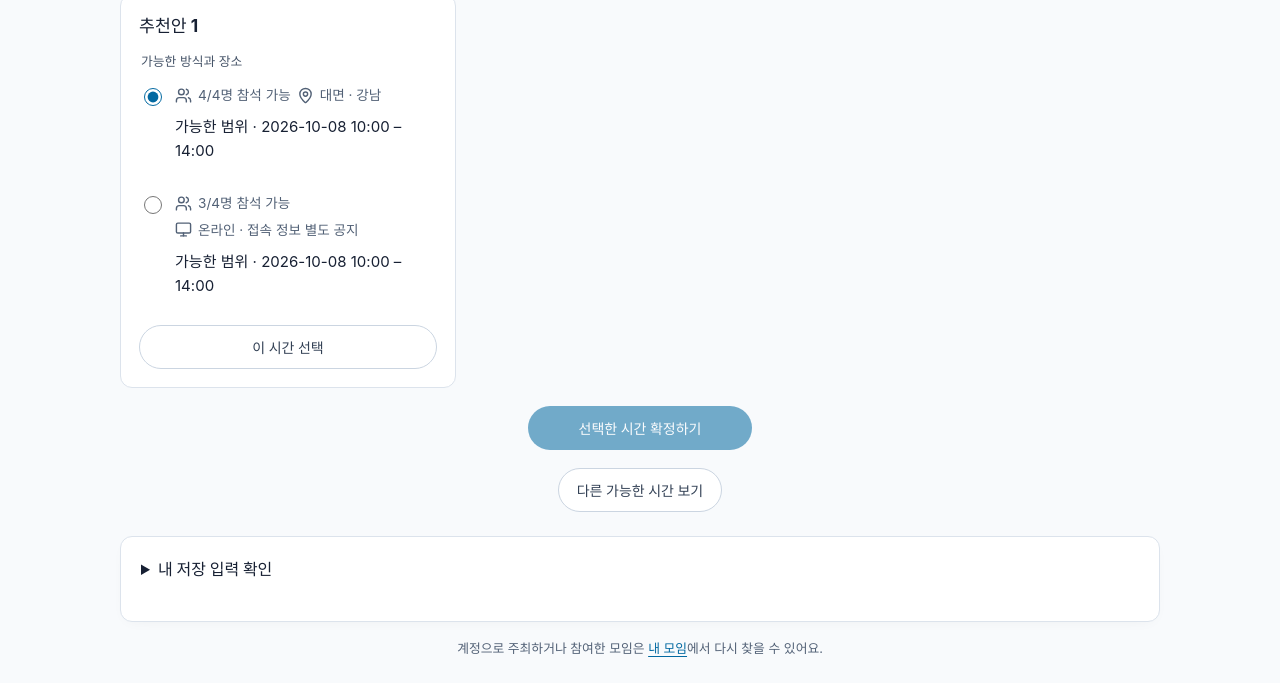
Test: #19 native alternatives paging and stale resets › starts without a cursor, passes the opaque next cursor, and stops at null even when has_alternatives remains true
(page scrolled)
Click the button "다른 가능한 시간 보기" at (640, 490), box x1=558 y1=468 x2=722 y2=512
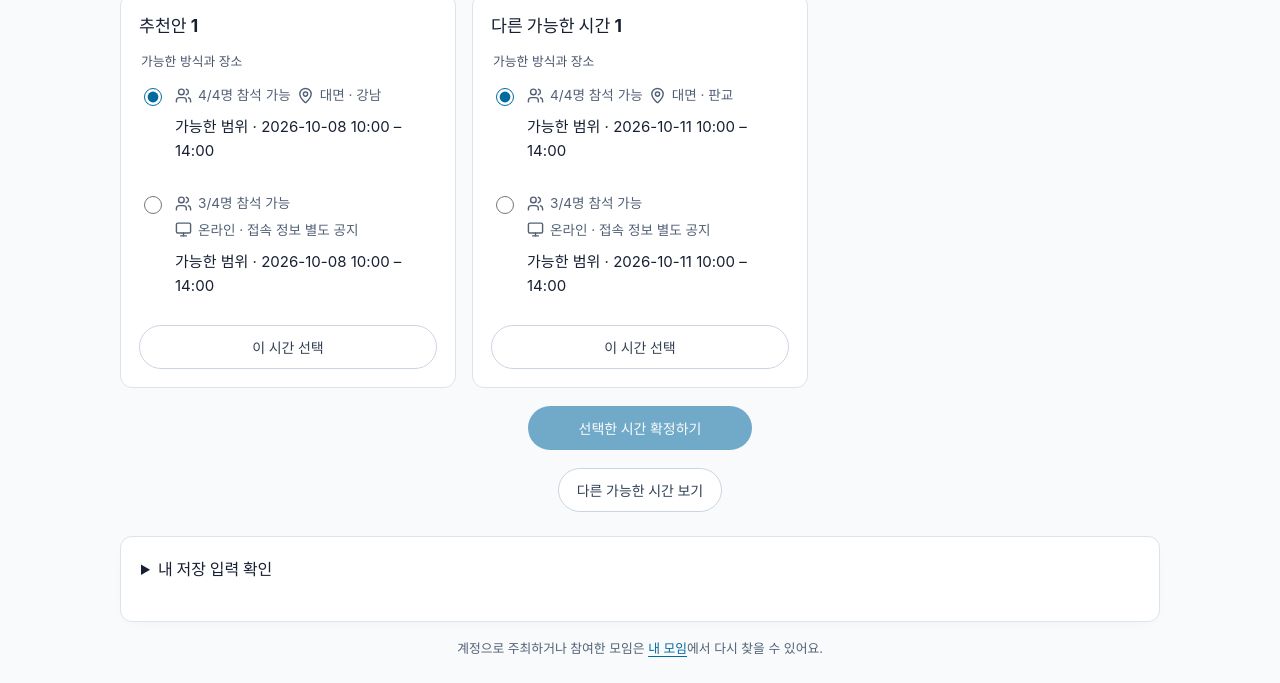
Expected: the text "대면 · 판교" is shown, x1=649 y1=85 x2=733 y2=105
Click the button "다른 가능한 시간 보기" at (640, 490), box x1=558 y1=468 x2=722 y2=512
(page scrolled)
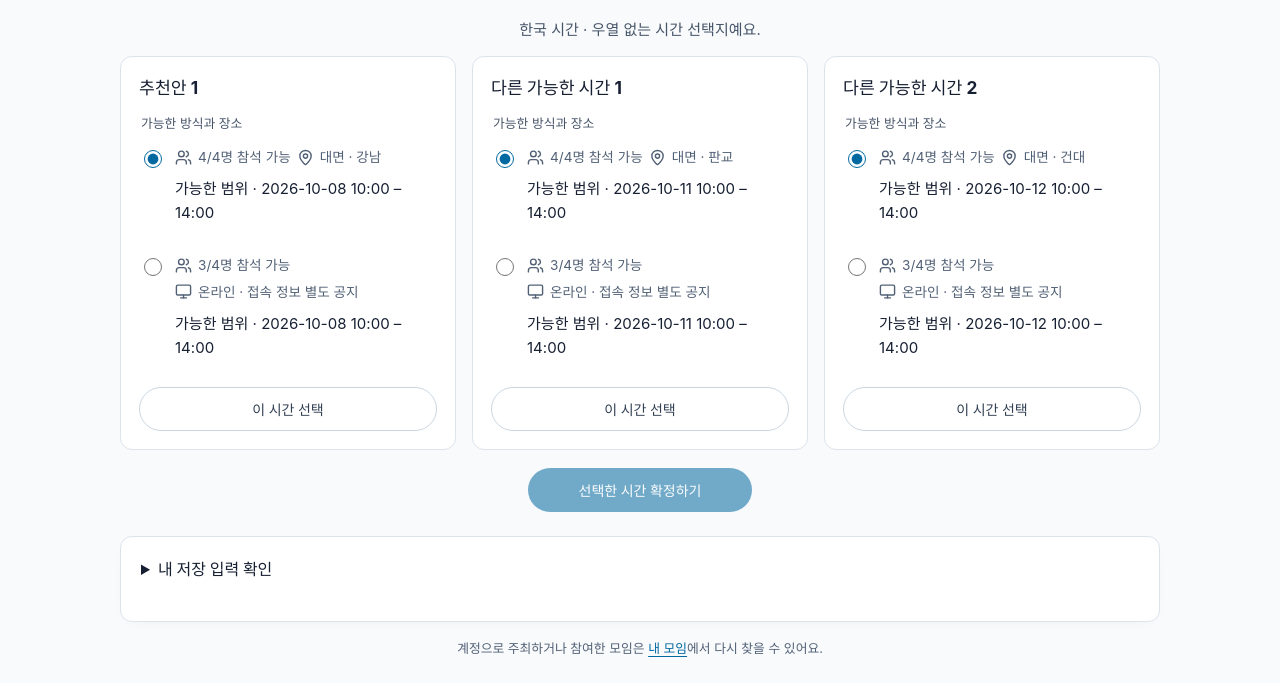
Expected: the text "대면 · 건대" is shown, x1=1001 y1=147 x2=1085 y2=167
Expected: the button "다른 가능한 시간 보기" is gone
Expected: the number of headings "다른 가능한 시간 1" is 2, x1=491 y1=77 x2=622 y2=98; x1=843 y1=77 x2=977 y2=98
